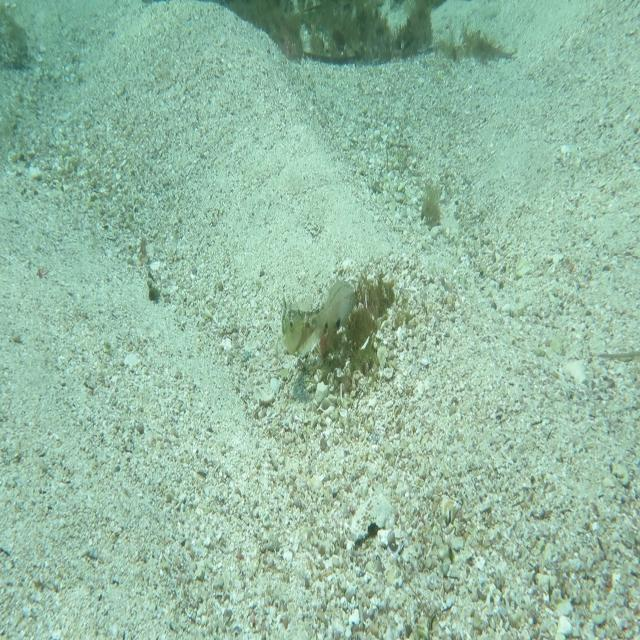DAN_CIRC: (278, 289, 332, 364)
female: (315, 275, 361, 346)
nest: (302, 264, 398, 401)
vegetation: (235, 0, 454, 65), (416, 183, 444, 236)
